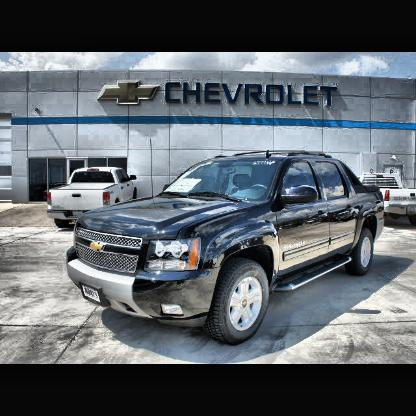Chevrolet Avalanche Crew Cab 2012: (63, 152, 389, 345)
